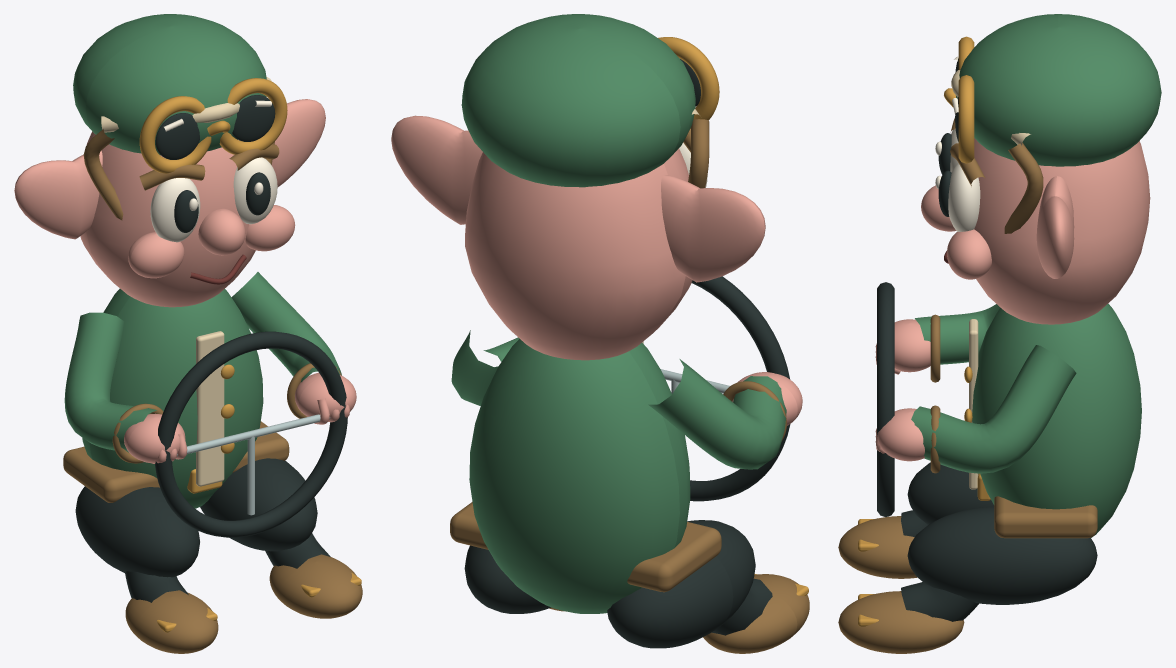
File: lio.glb
3 views of the same model, side by side, from view 1: azimuth 30°, elevation 25°; view 2: azimuth 150°, elevation 25°; view 3: azimuth 270°, elevation 25° (orthographic). The views are drawn at different scales.
Parts seen in each view (by area): view 1: green, skin_1, dark_body, green_1, leather, dark_steering, brass_1, dark_1, skin_steering, white, cream_body, leather_1 (+3 smaller); view 2: green, skin_1, green_1, dark_body, leather, brass_1, leather_1, dark_steering, skin_steering; view 3: green, skin_1, green_1, dark_body, leather, skin_steering, dark_steering, leather_1, white, brass_1, dark_1, brass_body (+1 smaller).
Part boxes in pixels (left/top/right/bottom): green: left=64, top=272, right=341, bottom=508; skin_1: left=14, top=99, right=325, bottom=307; dark_body: left=75, top=331, right=330, bottom=602; green_1: left=73, top=14, right=266, bottom=155; leather: left=63, top=363, right=362, bottom=653; dark_steering: left=155, top=339, right=347, bottom=537; brass_1: left=139, top=78, right=287, bottom=173; dark_1: left=155, top=95, right=275, bottom=232; skin_steering: left=124, top=372, right=356, bottom=463; white: left=150, top=100, right=277, bottom=242; cream_body: left=196, top=331, right=224, bottom=486; leather_1: left=83, top=129, right=279, bottom=220; green: left=451, top=330, right=786, bottom=613; skin_1: left=391, top=115, right=765, bottom=360; green_1: left=461, top=14, right=695, bottom=187; dark_body: left=464, top=276, right=781, bottom=648; leather: left=450, top=381, right=809, bottom=653; brass_1: left=658, top=37, right=719, bottom=128; leather_1: left=683, top=119, right=709, bottom=188; dark_steering: left=690, top=292, right=790, bottom=500; skin_steering: left=737, top=372, right=802, bottom=425; green: left=911, top=303, right=1141, bottom=537; skin_1: left=921, top=138, right=1150, bottom=324; green_1: left=956, top=14, right=1161, bottom=166; dark_body: left=877, top=282, right=1097, bottom=621; leather: left=838, top=314, right=1097, bottom=653; skin_steering: left=875, top=319, right=930, bottom=461; dark_steering: left=877, top=333, right=891, bottom=517; leather_1: left=950, top=118, right=1043, bottom=233; white: left=935, top=56, right=980, bottom=231; brass_1: left=944, top=36, right=974, bottom=163; dark_1: left=938, top=58, right=958, bottom=216; brass_body: left=858, top=366, right=990, bottom=626.
Bounding box in the file's own units: 0.37 × 0.6226 × 0.313.
